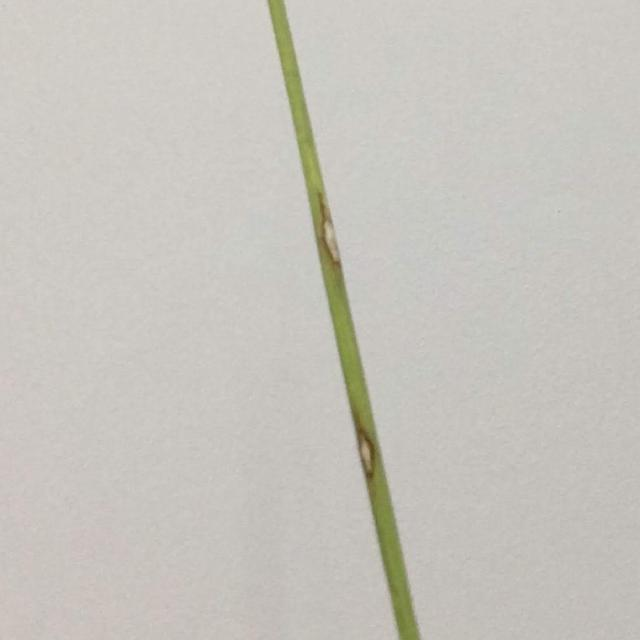Blast: (360, 432, 380, 474), (322, 216, 338, 264)
